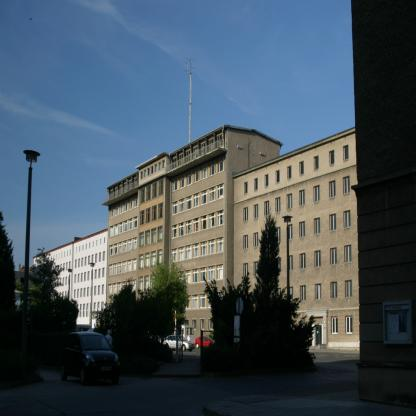Car: (54, 330, 123, 385), (163, 333, 195, 352), (195, 334, 213, 348)
